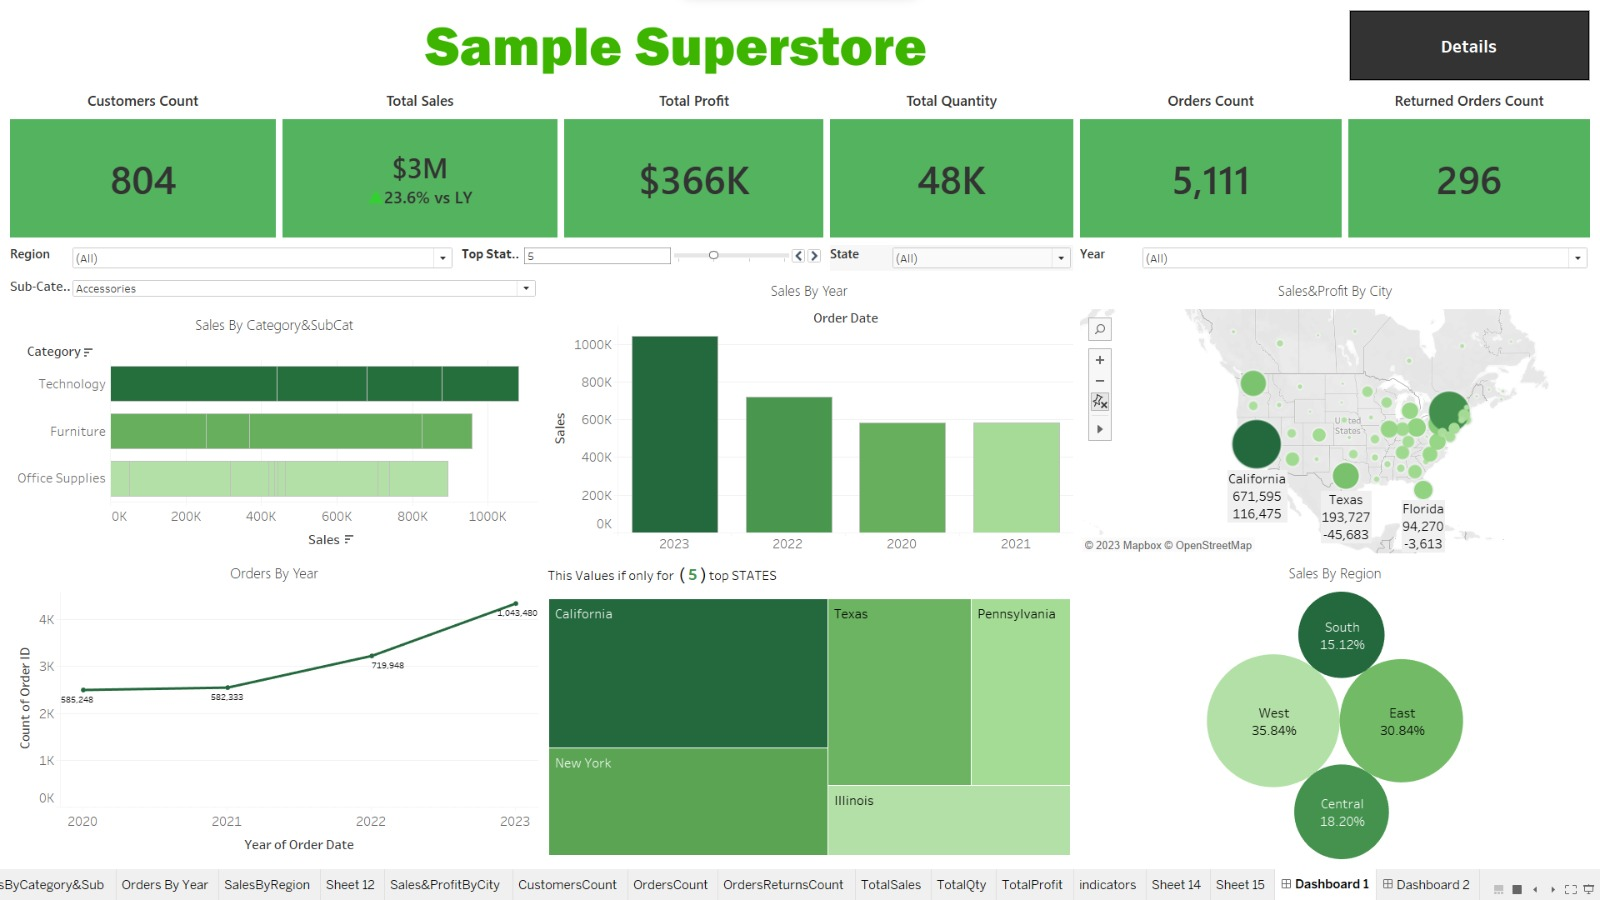

The dashboard page shown, as its layout file describes it:
{"tool":"tableau","page":{"name":"Dashboard 1","canvas":[1000,1000],"units":"permille","ordinal":0},"visuals":[{"type":"text","box":[4.8,9.4,990.4,89.3]},{"type":"worksheet","title":"CustomersCount","mark":"Automatic","box":[4.8,98.7,170.2,175.1]},{"type":"worksheet","title":"TotalSales","mark":"Automatic","box":[175,98.7,164.1,175.1]},{"type":"worksheet","title":"TotalProfit","mark":"Automatic","box":[339.1,98.7,177.9,175.1]},{"type":"worksheet","title":"Sheet 13","mark":"Automatic","box":[516.9,98.7,155.8,175.1]},{"type":"worksheet","title":"OrdersCount","mark":"Automatic","box":[672.8,98.7,167.8,175.1]},{"type":"worksheet","title":"OrdersReturnsCount","mark":"Automatic","box":[840.5,98.7,154.7,175.1]},{"type":"filter","title":"SalesByRegion","param":"[federated.14iq7dv0aee40f17o0jvk0kcba9z].[none:Region:nk]","box":[4.8,273.8,334.5,42.3]},{"type":"filter","title":"Sales&ProfitByCity","param":"[federated.14iq7dv0aee40f17o0jvk0kcba9z].[none:State/Province:nk]","box":[339.3,273.8,333.3,42.3]},{"type":"filter","title":"SalesByYear","param":"[federated.14iq7dv0aee40f17o0jvk0kcba9z].[yr:Order Date:ok]","box":[672.7,273.8,322.5,42.3]},{"type":"worksheet","title":"SalesByCategory&Sub","mark":"Automatic","rows":["Category"],"cols":["Sales"],"box":[4.8,316.1,334.3,324.3]},{"type":"worksheet","title":"SalesByYear","mark":"Bar","rows":["Sales"],"cols":["Order Date"],"box":[339.1,316.1,333.8,324.3]},{"type":"worksheet","title":"Sales&ProfitByCity","mark":"Automatic","box":[672.9,316.1,322.3,324.3]},{"type":"worksheet","title":"Orders By Year","mark":"Automatic","rows":["Order ID"],"cols":["Order Date"],"box":[4.8,640.4,334,350.2]},{"type":"worksheet","title":"Sheet 12","mark":"Automatic","box":[338.8,640.4,334.1,350.2]},{"type":"worksheet","title":"SalesByRegion","mark":"Circle","box":[672.9,640.4,322.3,350.2]}]}

Visuals, with their boxes on the dashboard's canvas, which has no fixed pixel size, in thousandths of its width and height (x1, y1, x2, y2). These are canvas units, not pixel positions in the 1600x900 screenshot, which may show the page scaled, cropped or inside an application window:
text: [5,9,995,99]
"CustomersCount" worksheet: [5,99,175,274]
"TotalSales" worksheet: [175,99,339,274]
"TotalProfit" worksheet: [339,99,517,274]
"Sheet 13" worksheet: [517,99,673,274]
"OrdersCount" worksheet: [673,99,841,274]
"OrdersReturnsCount" worksheet: [840,99,995,274]
"SalesByRegion" filter: [5,274,339,316]
"Sales&ProfitByCity" filter: [339,274,673,316]
"SalesByYear" filter: [673,274,995,316]
"SalesByCategory&Sub" worksheet: [5,316,339,640]
"SalesByYear" worksheet (Bar marks): [339,316,673,640]
"Sales&ProfitByCity" worksheet: [673,316,995,640]
"Orders By Year" worksheet: [5,640,339,991]
"Sheet 12" worksheet: [339,640,673,991]
"SalesByRegion" worksheet (Circle marks): [673,640,995,991]
